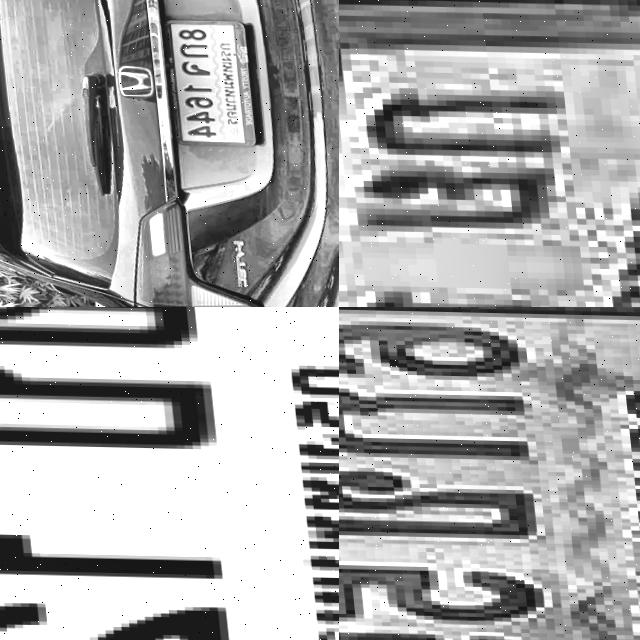license-plate: (0, 307, 339, 640), (339, 307, 640, 640), (339, 0, 640, 307), (153, 19, 253, 146)
